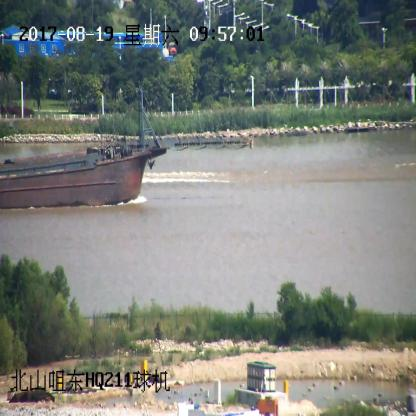Bulk Carrier: (0, 86, 252, 209)
